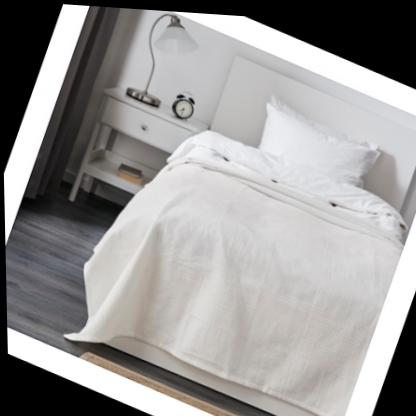Bed: (74, 23, 416, 416)
